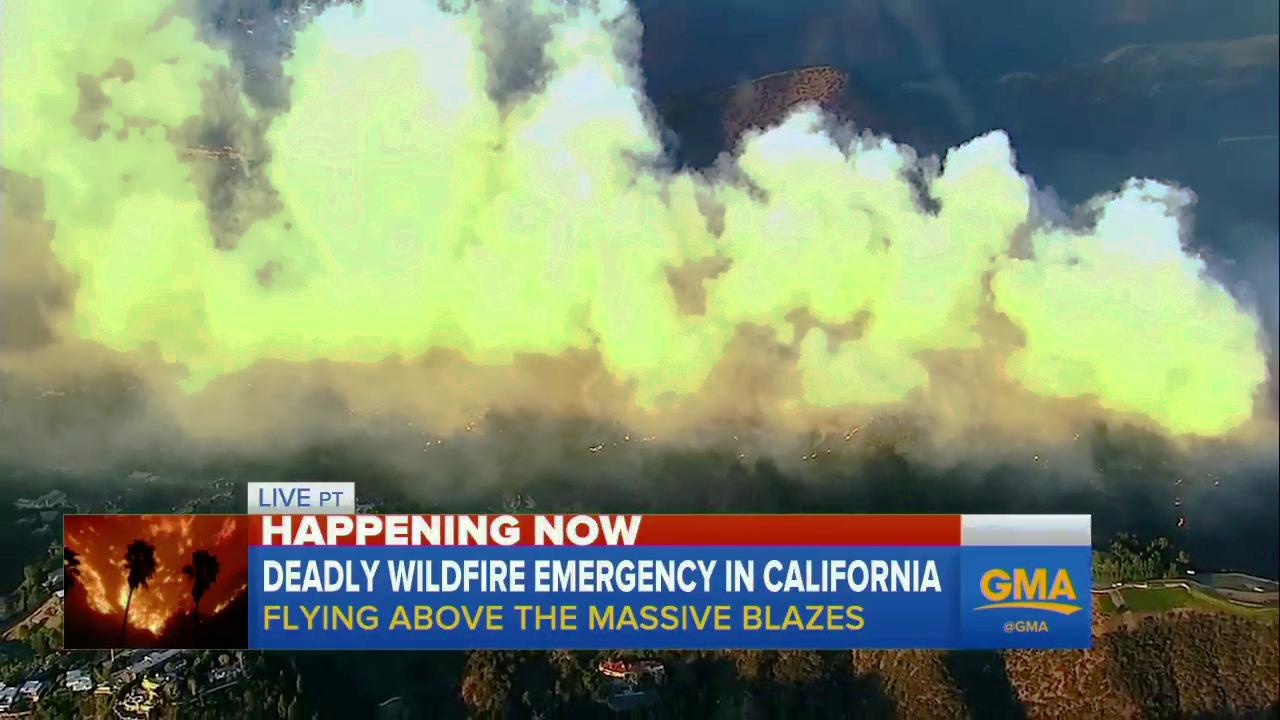smoke: (0, 2, 1278, 475), (272, 0, 795, 441), (814, 157, 1275, 456), (0, 10, 254, 357)
